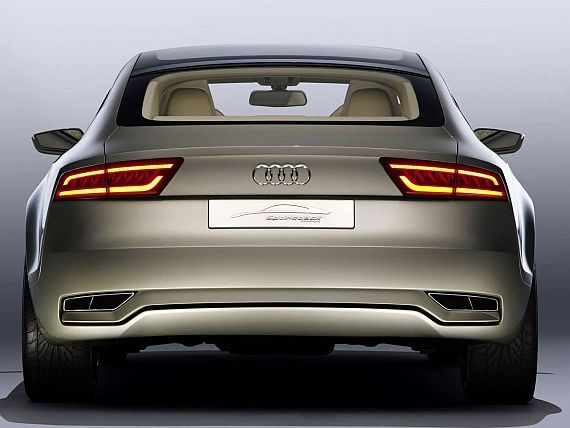audi: (16, 30, 550, 414)
